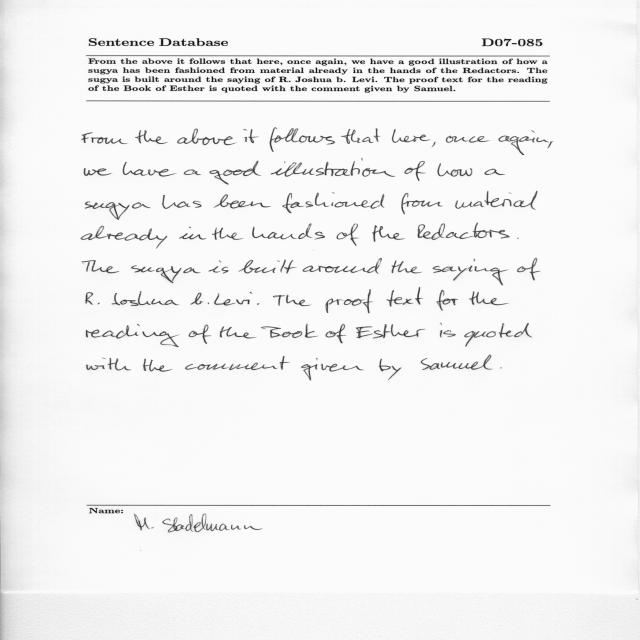word: (271, 158, 396, 177), (283, 192, 385, 213), (86, 324, 179, 347), (81, 226, 167, 249), (433, 259, 508, 285), (464, 323, 532, 347), (418, 223, 510, 240), (270, 128, 335, 152), (455, 191, 537, 210), (185, 356, 289, 370), (301, 358, 364, 381), (498, 131, 549, 156), (303, 258, 382, 274), (85, 201, 151, 220), (209, 161, 261, 185), (131, 265, 200, 283), (252, 223, 325, 240), (326, 289, 373, 313), (421, 355, 492, 370), (112, 291, 179, 306), (177, 129, 236, 146), (356, 324, 425, 338), (401, 193, 443, 214), (213, 194, 271, 209), (238, 260, 296, 274), (261, 324, 318, 338), (123, 162, 176, 177), (387, 288, 423, 307), (341, 128, 380, 144), (86, 358, 131, 371), (372, 225, 405, 242), (162, 195, 202, 209), (469, 291, 509, 305), (82, 132, 128, 144), (392, 129, 431, 143), (336, 224, 359, 246), (517, 258, 540, 280), (215, 292, 253, 305), (438, 163, 473, 177), (379, 359, 402, 380), (82, 260, 119, 273), (135, 130, 168, 144), (436, 290, 458, 311), (189, 324, 211, 344), (220, 327, 256, 339), (404, 161, 425, 181), (273, 295, 311, 306), (212, 227, 243, 240), (392, 261, 422, 274), (326, 324, 346, 343), (143, 359, 172, 372), (179, 227, 207, 240), (446, 136, 489, 143), (209, 261, 229, 274), (190, 293, 209, 305), (84, 168, 112, 176), (440, 323, 456, 337), (244, 129, 259, 143), (86, 292, 100, 305), (484, 169, 505, 175), (184, 169, 201, 175), (548, 142, 554, 149), (432, 142, 436, 147), (257, 303, 260, 305), (517, 237, 519, 239), (500, 368, 502, 369)
